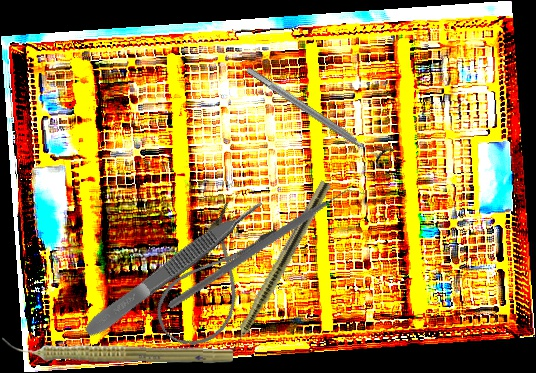Cannula: (144, 197, 285, 360)
Chopper: (167, 137, 367, 363)
Fixation Ring: (240, 58, 395, 171)
Handpiece: (218, 178, 332, 369), (1, 335, 234, 368)
Tissue Forceps: (80, 195, 269, 341)
